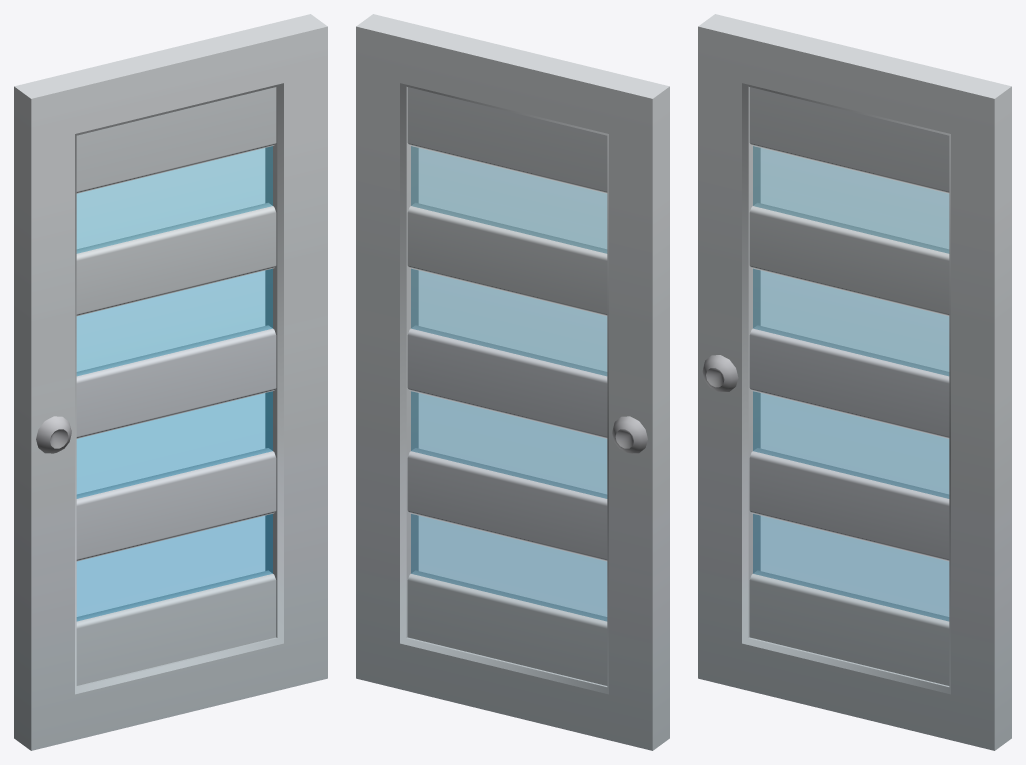
Rendered from Door_White_08.glb.
3 views of the same model, side by side, from view 1: azimuth 30°, elevation 25°; view 2: azimuth 150°, elevation 25°; view 3: azimuth 330°, elevation 25° (orthographic).
Parts seen in each view (by area): view 1: Door_White_08; view 2: Door_White_08; view 3: Door_White_08.
Part boxes in pixels (x1,y1,x2,y2): Door_White_08: (14, 14, 327, 750); Door_White_08: (356, 14, 669, 750); Door_White_08: (698, 14, 1011, 750).
Bounding box in the file's own units: 1 × 2.1 × 0.1634.
2 materials, 2 textured.
